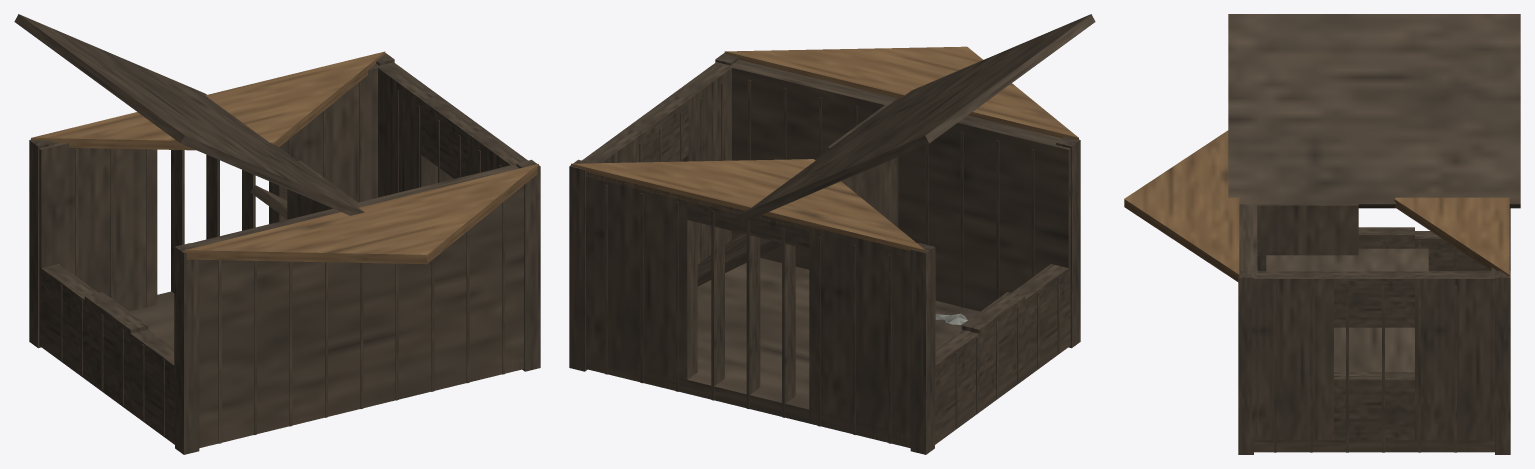
The model's file is SM_POI_AbandonedHouse_LOD1.fbx.
The picture shows the model from 3 angles, left to right: view 1: azimuth 30°, elevation 25°; view 2: azimuth 150°, elevation 25°; view 3: azimuth 270°, elevation 25°; orthographic projection. The views are drawn at different scales.
Visible parts, largest first — view 1: SM_POI_AbandonedHouse_LOD1; view 2: SM_POI_AbandonedHouse_LOD1; view 3: SM_POI_AbandonedHouse_LOD1.
Part boxes in pixels (left/top/right/bottom): SM_POI_AbandonedHouse_LOD1: left=14, top=14, right=540, bottom=454; SM_POI_AbandonedHouse_LOD1: left=569, top=14, right=1095, bottom=454; SM_POI_AbandonedHouse_LOD1: left=1124, top=14, right=1520, bottom=454.
Size of the model in its own units: 16.51 by 14.01 by 17.62.
1 material, 1 textured.
